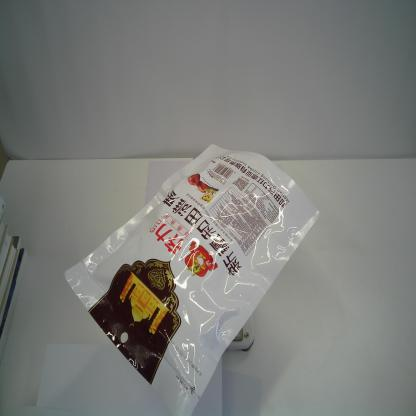Dried Food: (62, 141, 321, 413)
